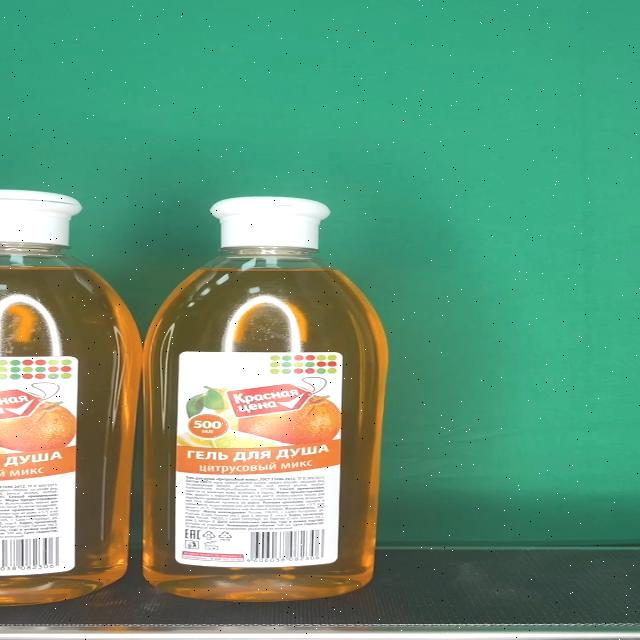Bottle: (142, 197, 390, 602)
Cap: (210, 197, 332, 250)
